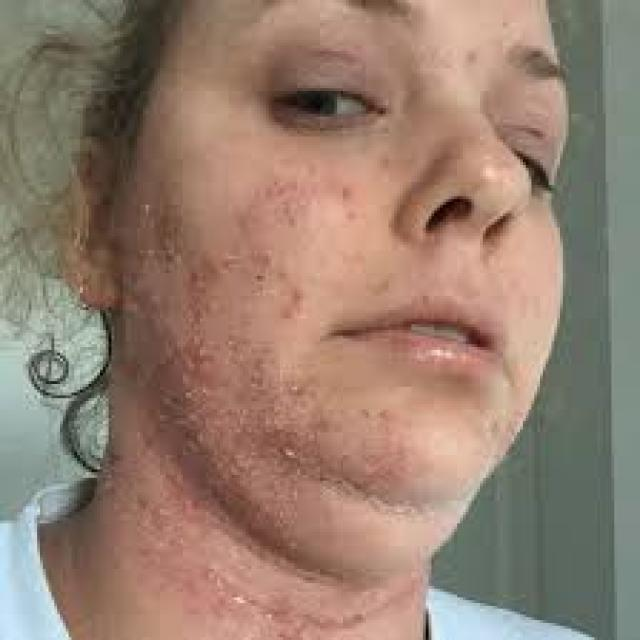burn: (58, 165, 527, 637), (258, 45, 422, 159), (478, 97, 559, 185)
